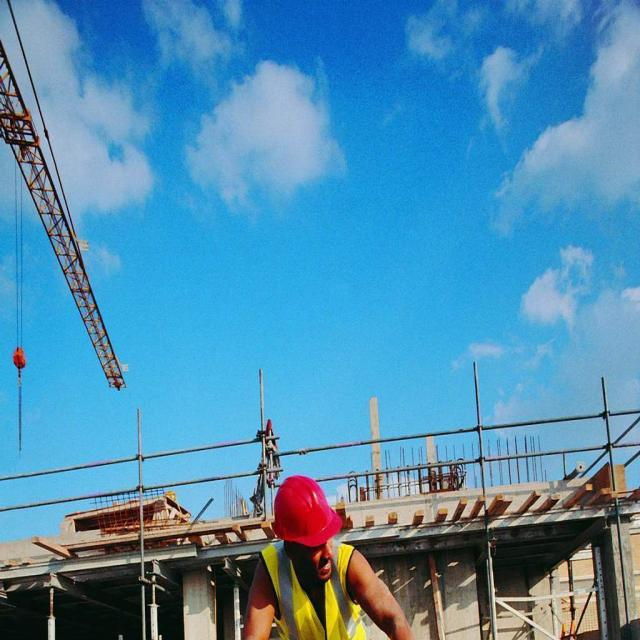Reflective-Jacket: (258, 542, 370, 640)
Safety-Helmet: (270, 470, 343, 549)
